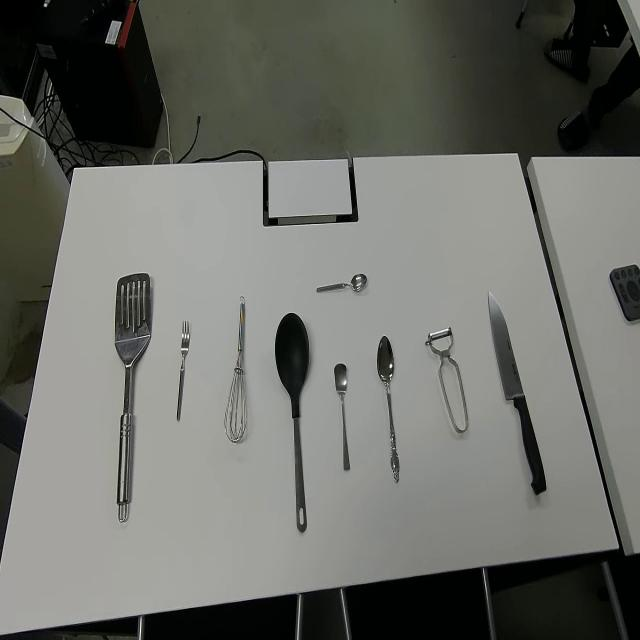Desert-Spoon: (376, 334, 400, 483)
Dinner-Fork: (175, 319, 190, 425)
Kitchen-Knife: (487, 288, 547, 496)
Peeler: (424, 325, 469, 434)
Serving-Spoon: (113, 272, 152, 524), (274, 310, 310, 532)
Tea-Spoon: (332, 362, 350, 473), (316, 269, 368, 296)
Whisk: (224, 294, 248, 444)
